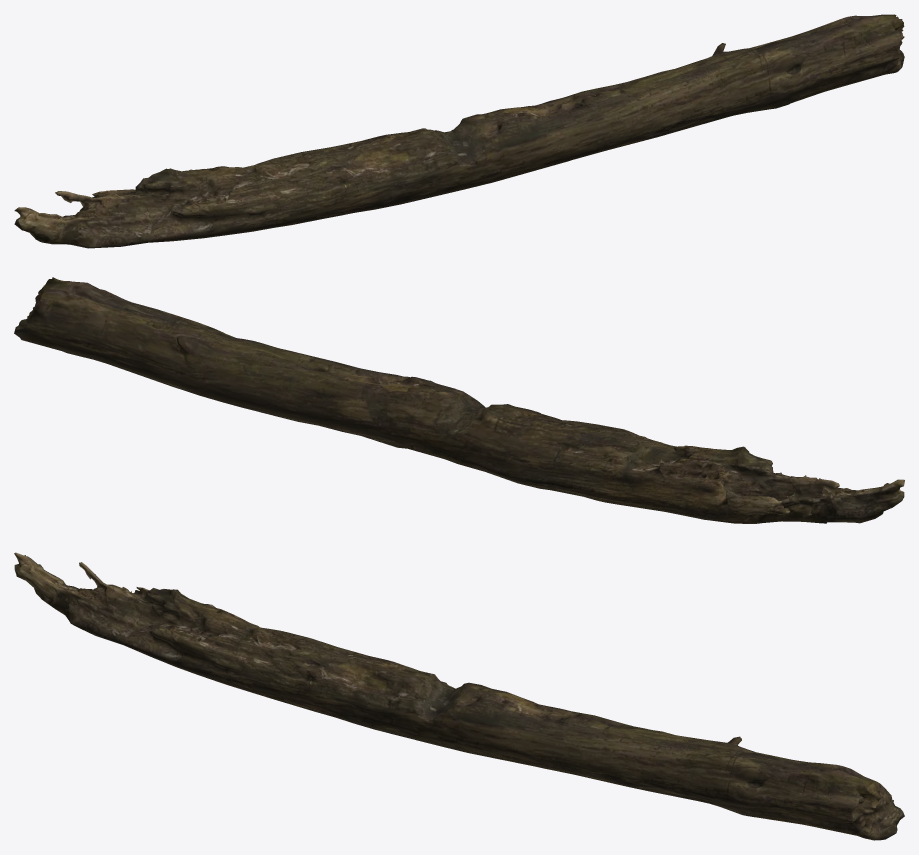
The model's file is dead_tree_trunk.glb.
3 views of the same model, one above another, from view 1: azimuth 30°, elevation 25°; view 2: azimuth 150°, elevation 25°; view 3: azimuth 330°, elevation 25° (orthographic).
Visible parts, largest first — view 1: dead_tree_trunk; view 2: dead_tree_trunk; view 3: dead_tree_trunk.
Part boxes in pixels (x1,y1,x2,y2): dead_tree_trunk: [14, 14, 904, 248]; dead_tree_trunk: [14, 277, 904, 523]; dead_tree_trunk: [14, 552, 904, 840].
Size of the model in its own units: 3.05 by 0.2898 by 0.2767.
Materials: 1 (1 with a texture image).
